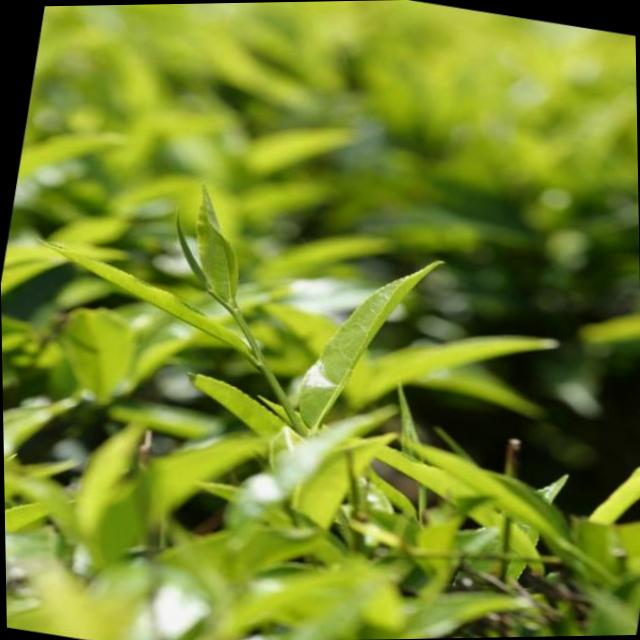Stem: (230, 307, 244, 325)
